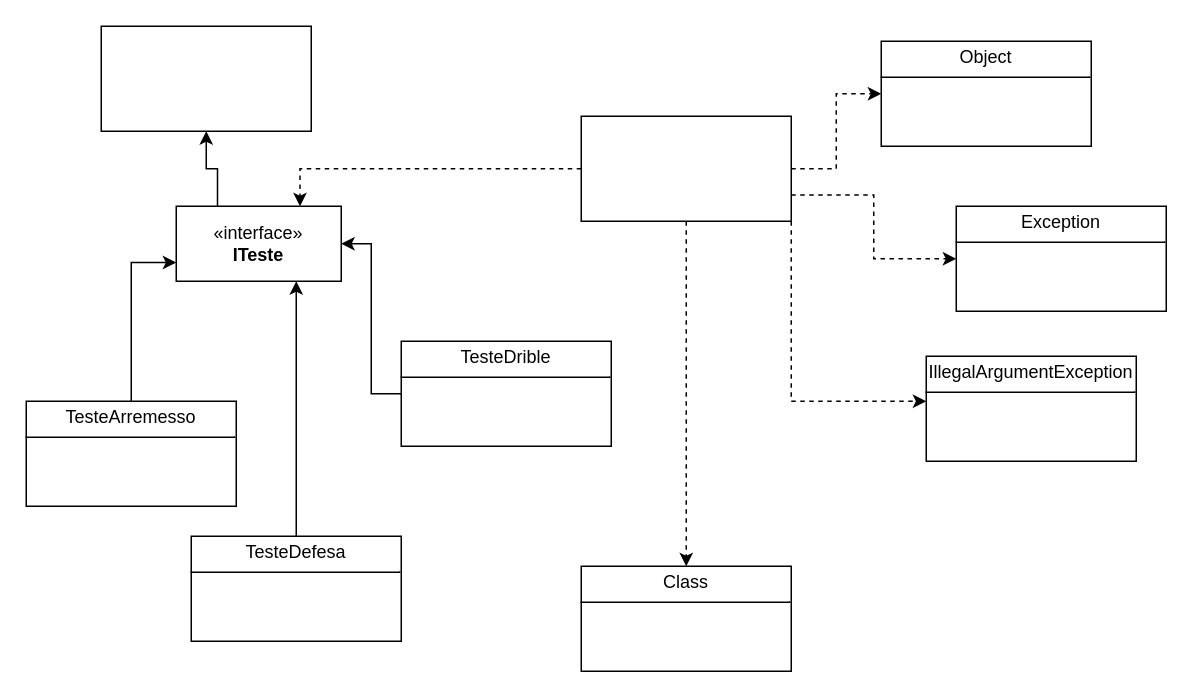
This 1193x698 diagram has some shape labels left out. The centre of each missing label's shape, as x and y in pixels:
"TesteFactory" goes at pixel 685 168.
"TesteInvalido" goes at pixel 205 78.
